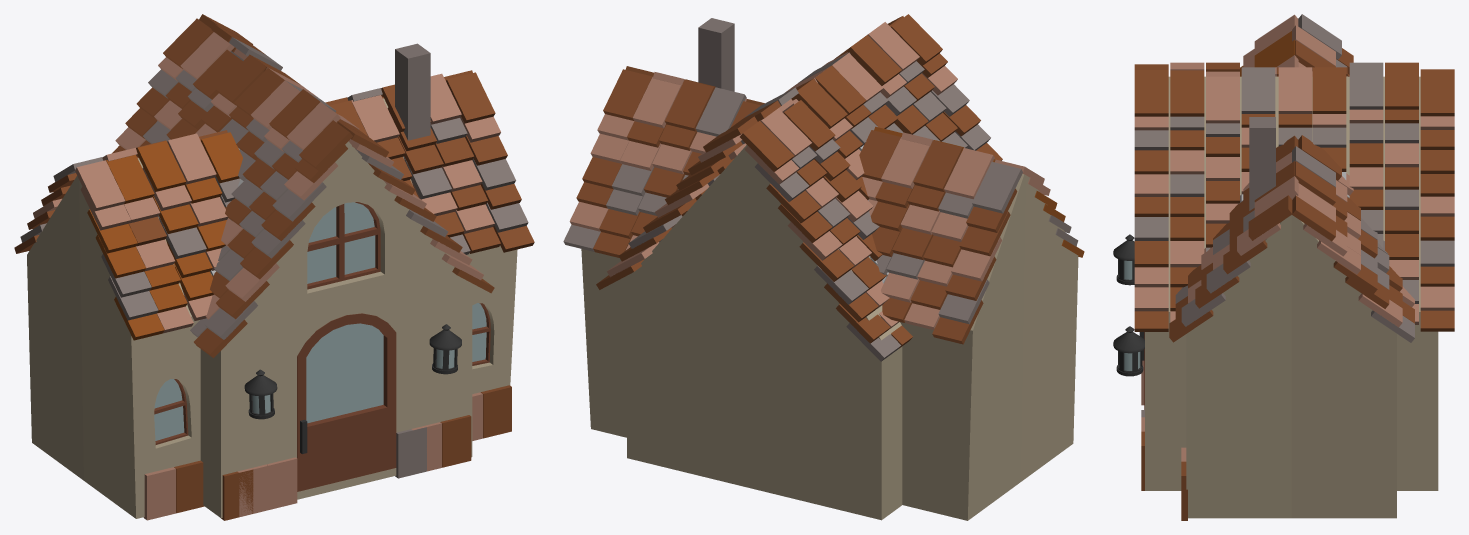
The model's file is house.fbx.
3 views of the same model, side by side, from view 1: azimuth 30°, elevation 25°; view 2: azimuth 150°, elevation 25°; view 3: azimuth 270°, elevation 25° (orthographic).
Visible parts, largest first — view 1: pCube26, pCube28, pCube24, pCube6 (×9), pCube13 (×9), pCube9 (×8), pCube8 (×8), pCube14, pCube7 (×7), pCube11 (×6), pCube10 (×7), pCube12 (×5) (+16 smaller); view 2: pCube26, pCube28, pCube6 (×10), pCube13 (×9), pCube9 (×8), pCube8 (×8), pCube7 (×8), pCube11 (×6), pCube10 (×6), pCube12 (×5), pCube5 (×4), pCube44 (+1 smaller); view 3: pCube28, pCube26, pCube13 (×9), pCube6 (×19), pCube4 (×8), pCube5 (×6), pCube7 (×8), pCube8 (×7), pCube9 (×6), pCube3 (×8), pCube10 (×6), pCube11 (×4) (+4 smaller).
Boxes of the visible parts, bbox=[...] form: pCube26: bbox=[200, 141, 472, 518]; pCube28: bbox=[27, 98, 517, 518]; pCube24: bbox=[297, 313, 396, 491]; pCube6 (×9): bbox=[75, 72, 495, 240]; pCube13 (×9): bbox=[163, 18, 352, 170]; pCube9 (×8): bbox=[95, 156, 515, 301]; pCube8 (×8): bbox=[87, 135, 507, 279]; pCube14: bbox=[307, 202, 380, 289]; pCube7 (×7): bbox=[80, 116, 500, 258]; pCube11 (×6): bbox=[108, 202, 528, 339]; pCube10 (×7): bbox=[101, 179, 521, 319]; pCube12 (×5): bbox=[114, 225, 534, 357]; pCube26: bbox=[627, 145, 902, 520]; pCube28: bbox=[581, 174, 1078, 520]; pCube6 (×10): bbox=[603, 69, 1022, 242]; pCube13 (×9): bbox=[740, 14, 942, 171]; pCube9 (×8): bbox=[582, 157, 1001, 304]; pCube8 (×8): bbox=[590, 133, 1010, 281]; pCube7 (×8): bbox=[597, 114, 1017, 260]; pCube11 (×6): bbox=[569, 201, 989, 343]; pCube10 (×6): bbox=[576, 182, 996, 322]; pCube12 (×5): bbox=[563, 224, 983, 361]; pCube5 (×4): bbox=[766, 84, 969, 223]; pCube44: bbox=[698, 18, 734, 91]; pCube28: bbox=[1186, 215, 1396, 518]; pCube26: bbox=[1145, 76, 1438, 490]; pCube13 (×9): bbox=[1134, 62, 1454, 123]; pCube6 (×19): bbox=[1134, 14, 1454, 241]; pCube4 (×8): bbox=[1134, 123, 1454, 156]; pCube5 (×6): bbox=[1134, 143, 1454, 180]; pCube7 (×8): bbox=[1134, 189, 1454, 256]; pCube8 (×7): bbox=[1134, 210, 1454, 274]; pCube9 (×6): bbox=[1134, 234, 1454, 293]; pCube3 (×8): bbox=[1134, 109, 1454, 136]; pCube10 (×6): bbox=[1134, 260, 1454, 308]; pCube11 (×4): bbox=[1134, 286, 1454, 327].
Bounding box in the file's own units: 569 × 501 × 420.
